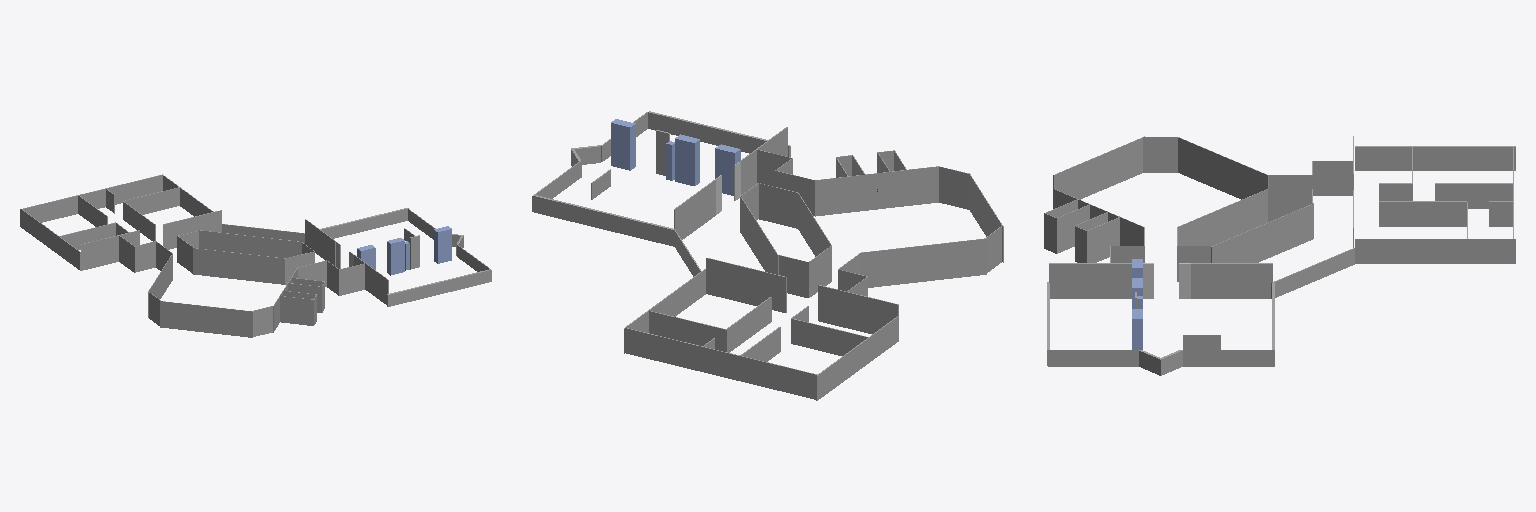
--- What the picture shows (computed from the rendered views, not written in the file) ---
Views: 3 orthographic renders of the robot side by side, from view 1: azimuth 30°, elevation 25°; view 2: azimuth 150°, elevation 25°; view 3: azimuth 270°, elevation 25°.
Model ipa-apartment with 64 links and 63 joints (4 prismatic, 59 fixed), rooted at dummy_link, posed all joints at 0.
Links seen in each view (by area): view 1: wall_ext15, wall_ext13, wall_office_04, wall_ext21, wall_06, wall_office_01, wall_office_03, wall_office_00, wall_01, wall_elv8, wall_office_09, wall_00 (+11 smaller); view 2: wall_office_04, wall_ext14, wall_office_00, wall_office_01, wall_01, wall_office_03, wall_06, wall_office_09, wall_office_10, wall_00, wall_office_02, wall_ext6 (+21 smaller); view 3: wall_office_02, wall_office_03, wall_ext21, wall_07, wall_ext14, wall_ext15, wall_00, wall_ext13, wall_office_05, wall_office_07, wall_05, wall_02 (+12 smaller).
Boxes of the visible links, x1,y1,x2,y2 form: wall_ext15: (160,301,252,337); wall_ext13: (193,248,285,284); wall_office_04: (23,175,162,222); wall_ext21: (199,230,301,257); wall_06: (387,269,491,306); wall_office_01: (81,230,139,270); wall_office_03: (20,209,80,270); wall_office_00: (163,210,221,249); wall_01: (320,208,408,238); wall_elv8: (280,296,313,325); wall_office_09: (124,187,179,214); wall_00: (305,219,335,266); wall_office_04: (625,328,817,399); wall_ext14: (861,238,986,287); wall_office_00: (706,258,786,312); wall_office_01: (818,285,898,333); wall_01: (532,195,673,246); wall_office_03: (816,316,898,400); wall_06: (648,111,790,156); wall_office_09: (649,311,725,351); wall_office_10: (791,318,867,355); wall_00: (674,179,715,239); wall_office_02: (624,269,705,353); wall_ext6: (759,183,797,228); wall_office_02: (1355,239,1515,263); wall_office_03: (1355,146,1515,170); wall_ext21: (1211,203,1313,262); wall_07: (1049,263,1131,298); wall_ext14: (1178,137,1268,199); wall_ext15: (1053,136,1144,208); wall_00: (1191,263,1272,298); wall_ext13: (1178,189,1267,245); wall_office_05: (1379,201,1466,226); wall_office_07: (1435,183,1512,208); wall_05: (1048,350,1138,366); wall_02: (1183,350,1271,366).
Size in the robot's own frame: 24.78 by 24.04 by 2.41 metres.
Meshes: 3 distinct files referenced, 0 mesh visuals loaded (none loaded); not drawn: 3 (reference not matched to a file when rendering).

robot.urdf — ipa-apartment:
<?xml version="1.0" ?>
<!-- =================================================================================== -->
<!-- |    This document was autogenerated by xacro from ipa-apartment.urdf.xacro       | -->
<!-- |    EDITING THIS FILE BY HAND IS NOT RECOMMENDED                                 | -->
<!-- =================================================================================== -->
<robot name="ipa-apartment" xmlns:controller="http://playerstage.sourceforge.net/gazebo/xmlschema/#controller" xmlns:interface="http://playerstage.sourceforge.net/gazebo/xmlschema/#interface" xmlns:sensor="http://playerstage.sourceforge.net/gazebo/xmlschema/#sensor" xmlns:xacro="http://ros.org/wiki/xacro">
  <material name="Blue">
    <color rgba="0.0 0.0 0.8 1.0"/>
  </material>
  <material name="Green">
    <color rgba="0.0 0.8 0.0 1.0"/>
  </material>
  <material name="Grey">
    <color rgba="0.7 0.7 0.7 1.0"/>
  </material>
  <material name="Grey2">
    <color rgba="0.81 0.81 0.81 1.0"/>
  </material>
  <material name="Red">
    <color rgba="0.8 0.0 0.0 1.0"/>
  </material>
  <material name="White">
    <color rgba="1.0 1.0 1.0 1.0"/>
  </material>
  <material name="Black">
    <color rgba="0.0 0.0 0.0 1.0"/>
  </material>
  <material name="Transparent">
    <color rgba="0.81 0.81 0.81 0.0"/>
  </material>
  <material name="LightBlue">
    <color rgba="0.624 0.698 0.858 1"/>
  </material>
  <material name="Caster">
    <texture filename="package://pr2_ogre/Media/materials/textures/pr2_caster_texture.png"/>
  </material>
  <material name="Wheel_l">
    <texture filename="package://pr2_ogre/Media/materials/textures/pr2_wheel_left.png"/>
  </material>
  <material name="Wheel_r">
    <texture filename="package://pr2_ogre/Media/materials/textures/pr2_wheel_right.png"/>
  </material>
  <material name="RollLinks">
    <texture filename="package://pr2_ogre/Media/materials/textures/pr2_wheel_left.png"/>
  </material>
  <!-- apartment -->
  <!-- office-->
  <!-- landing-->
  <link name="wall_ext15">
    <inertial>
      <origin xyz="0 0 0"/>
      <mass value="5.0"/>
      <inertia ixx="0.0" ixy="0.0" ixz="0.0" iyy="0.0" iyz="0.0" izz="0.0"/>
    </inertial>
    <visual>
      <origin xyz="0 0 0"/>
      <geometry>
        <box size="0.04 6.6 2"/>
      </geometry>
      <material name="Grey"/>
    </visual>
    <collision>
      <origin xyz="0 0 0"/>
      <geometry>
        <box size="0.04 6.6 2"/>
      </geometry>
    </collision>
  </link>
  <gazebo reference="wall_ext15">
    <material>IPA/WallApartment</material>
  </gazebo>
  <joint name="joint_wall_ext15" type="fixed">
    <origin rpy="0 0 0.7854" xyz="-3.15 -3.15 1.0"/>
    <parent link="origin_landing"/>
    <child link="wall_ext15"/>
  </joint>
  <link name="wall_ext16">
    <inertial>
      <origin xyz="0 0 0"/>
      <mass value="5.0"/>
      <inertia ixx="0.0" ixy="0.0" ixz="0.0" iyy="0.0" iyz="0.0" izz="0.0"/>
    </inertial>
    <visual>
      <origin xyz="0 0 0"/>
      <geometry>
        <box size="0.04 1.8 2"/>
      </geometry>
      <material name="Grey"/>
    </visual>
    <collision>
      <origin xyz="0 0 0"/>
      <geometry>
        <box size="0.04 1.8 2"/>
      </geometry>
    </collision>
  </link>
  <gazebo reference="wall_ext16">
    <material>IPA/WallApartment</material>
  </gazebo>
  <joint name="joint_wall_ext16" type="fixed">
    <origin rpy="0 0 0" xyz="-5.4 0 1.0"/>
    <parent link="origin_landing"/>
    <child link="wall_ext16"/>
  </joint>
  <link name="wall_ext17">
    <inertial>
      <origin xyz="0 0 0"/>
      <mass value="5.0"/>
      <inertia ixx="0.0" ixy="0.0" ixz="0.0" iyy="0.0" iyz="0.0" izz="0.0"/>
    </inertial>
    <visual>
      <origin xyz="0 0 0"/>
      <geometry>
        <box size="1.8 0.04 2"/>
      </geometry>
      <material name="Grey"/>
    </visual>
    <collision>
      <origin xyz="0 0 0"/>
      <geometry>
        <box size="1.8 0.04 2"/>
      </geometry>
    </collision>
  </link>
  <gazebo reference="wall_ext17">
    <material>IPA/WallApartment</material>
  </gazebo>
  <joint name="joint_wall_ext17" type="fixed">
    <origin rpy="0 0 0" xyz="0 -5.4 1.0"/>
    <parent link="origin_landing"/>
    <child link="wall_ext17"/>
  </joint>
  <link name="wall_ext21">
    <inertial>
      <origin xyz="0 0 0"/>
      <mass value="5.0"/>
      <inertia ixx="0.0" ixy="0.0" ixz="0.0" iyy="0.0" iyz="0.0" izz="0.0"/>
    </inertial>
    <visual>
      <origin xyz="0 0 0"/>
      <geometry>
        <box size="0.04 7.4 2"/>
      </geometry>
      <material name="Grey"/>
    </visual>
    <collision>
      <origin xyz="0 0 0"/>
      <geometry>
        <box size="0.04 7.4 2"/>
      </geometry>
    </collision>
  </link>
  <gazebo reference="wall_ext21">
    <material>IPA/WallApartment</material>
  </gazebo>
  <joint name="joint_wall_ext21" type="fixed">
    <origin rpy="0 0 0.7854" xyz="5.2 5.2 1.0"/>
    <parent link="origin_landing"/>
    <child link="wall_ext21"/>
  </joint>
  <link name="wall_ext22">
    <inertial>
      <origin xyz="0 0 0"/>
      <mass value="5.0"/>
      <inertia ixx="0.0" ixy="0.0" ixz="0.0" iyy="0.0" iyz="0.0" izz="0.0"/>
    </inertial>
    <visual>
      <origin xyz="0 0 0"/>
      <geometry>
        <box size="0.06 6 0.92"/>
      </geometry>
      <material name="Grey"/>
    </visual>
    <collision>
      <origin xyz="0 0 0"/>
      <geometry>
        <box size="0.06 6 0.92"/>
      </geometry>
    </collision>
  </link>
  <gazebo reference="wall_ext22">
    <material>IPA/WallApartment</material>
  </gazebo>
  <joint name="joint_wall_ext22" type="fixed">
    <origin rpy="0 0 0.7854" xyz="7.77 7.77 0.46"/>
    <parent link="origin_landing"/>
    <child link="wall_ext22"/>
  </joint>
  <!-- elevator-->
  <!-- cabinets-->
  <!-- kitchen-->
  <!-- wall_ipa-->
  <!--Parameters-->
  <link name="dummy_link">
    <inertial>
      <origin xyz="0 0 0"/>
      <mass value="5.0"/>
      <inertia ixx="0.0" ixy="0.0" ixz="0.0" iyy="0.0" iyz="0.0" izz="0.0"/>
    </inertial>
    <visual>
      <origin xyz="0 0 0"/>
      <geometry>
        <box size="0.00 0.00 0.00"/>
      </geometry>
    </visual>
    <collision>
      <origin xyz="0 0 0"/>
      <geometry>
        <box size="0.00 0.00 0.00"/>
      </geometry>
    </collision>
  </link>
  <link name="wall_00">
    <inertial>
      <origin xyz="0 0 0"/>
      <mass value="5.0"/>
      <inertia ixx="0.0" ixy="0.0" ixz="0.0" iyy="0.0" iyz="0.0" izz="0.0"/>
    </inertial>
    <visual>
      <origin xyz="0 0 0"/>
      <geometry>
        <box size="0.06 4.16 2"/>
      </geometry>
      <material name="Grey"/>
    </visual>
    <collision>
      <origin xyz="0 0 0"/>
      <geometry>
        <box size="0.06 4.16 2"/>
      </geometry>
    </collision>
  </link>
  <gazebo reference="wall_00">
    <material>IPA/WallApartment</material>
  </gazebo>
  <joint name="joint_wall_00" type="fixed">
    <origin rpy="0 0 0" xyz="-2.091 -0.45 1.0"/>
    <parent link="dummy_link"/>
    <child link="wall_00"/>
  </joint>
  <link name="wall_01">
    <inertial>
      <origin xyz="0 0 0"/>
      <mass value="5.0"/>
      <inertia ixx="0.0" ixy="0.0" ixz="0.0" iyy="0.0" iyz="0.0" izz="0.0"/>
    </inertial>
    <visual>
      <origin xyz="0 0 0"/>
      <geometry>
        <box size=" 8.2 0.15 0.92"/>
      </geometry>
      <material name="Grey"/>
    </visual>
    <collision>
      <origin xyz="0 0 0"/>
      <geometry>
        <box size="8.2 0.15 0.92"/>
      </geometry>
    </collision>
  </link>
  <gazebo reference="wall_01">
    <material>IPA/WallApartment</material>
  </gazebo>
  <joint name="joint_wall_01" type="fixed">
    <origin rpy="0 0 0" xyz="1.969 1.68 0.46"/>
    <parent link="dummy_link"/>
    <child link="wall_01"/>
  </joint>
  <link name="wall_02">
    <inertial>
      <origin xyz="0 0 0"/>
      <mass value="5.0"/>
      <inertia ixx="0.0" ixy="0.0" ixz="0.0" iyy="0.0" iyz="0.0" izz="0.0"/>
    </inertial>
    <visual>
      <origin xyz="0 0 0"/>
      <geometry>
        <box size="0.06 4.7 0.92"/>
      </geometry>
      <material name="Grey"/>
    </visual>
    <collision>
      <origin xyz="0 0 0"/>
      <geometry>
        <box size="0.06 4.7 0.92"/>
      </geometry>
    </collision>
  </link>
  <gazebo reference="wall_02">
    <material>IPA/WallApartment</material>
  </gazebo>
  <joint name="joint_wall_02" type="fixed">
    <origin rpy="0 0 0" xyz="6.029 -0.67 0.46"/>
    <parent link="dummy_link"/>
    <child link="wall_02"/>
  </joint>
  <link name="wall_03">
    <inertial>
      <origin xyz="0 0 0"/>
      <mass value="5.0"/>
      <inertia ixx="0.0" ixy="0.0" ixz="0.0" iyy="0.0" iyz="0.0" izz="0.0"/>
    </inertial>
    <visual>
      <origin xyz="0 0 0"/>
      <geometry>
        <box size=" 0.15 1.6 0.92"/>
      </geometry>
      <material name="Grey"/>
    </visual>
    <collision>
      <origin xyz="0 0 0"/>
      <geometry>
        <box size="0.15 1.5 0.92"/>
      </geometry>
    </collision>
  </link>
  <gazebo reference="wall_03">
    <material>IPA/WallApartment</material>
  </gazebo>
  <joint name="joint_wall_03" type="fixed">
    <origin rpy="0 0 0.785398" xyz="6.605 -3.57 0.46"/>
    <parent link="dummy_link"/>
    <child link="wall_03"/>
  </joint>
  <link name="wall_04">
    <inertial>
      <origin xyz="0 0 0"/>
      <mass value="5.0"/>
      <inertia ixx="0.0" ixy="0.0" ixz="0.0" iyy="0.0" iyz="0.0" izz="0.0"/>
    </inertial>
    <visual>
      <origin xyz="0 0 0"/>
      <geometry>
        <box size="0.15 1.55 0.92"/>
      </geometry>
      <material name="Grey"/>
    </visual>
    <collision>
      <origin xyz="0 0 0"/>
      <geometry>
        <box size="0.15 1.5 0.92"/>
      </geometry>
    </collision>
  </link>
  <gazebo reference="wall_04">
    <material>IPA/WallApartment</material>
  </gazebo>
  <joint name="joint_wall_04" type="fixed">
    <origin rpy="0 0 -0.785398" xyz="6.605 -4.57 0.46"/>
    <parent link="dummy_link"/>
    <child link="wall_04"/>
  </joint>
  <link name="wall_05">
    <inertial>
      <origin xyz="0 0 0"/>
      <mass value="5.0"/>
      <inertia ixx="0.0" ixy="0.0" ixz="0.0" iyy="0.0" iyz="0.0" izz="0.0"/>
    </inertial>
    <visual>
      <origin xyz="0 0 0"/>
      <geometry>
        <box size="0.06 4.7 0.92"/>
      </geometry>
      <material name="Grey"/>
    </visual>
    <collision>
      <origin xyz="0 0 0"/>
      <geometry>
        <box size="0.06 4.7 0.92"/>
      </geometry>
    </collision>
  </link>
  <gazebo reference="wall_05">
    <material>IPA/WallApartment</material>
  </gazebo>
  <joint name="joint_wall_05" type="fixed">
    <origin rpy="0 0 0" xyz="6.029 -7.47 0.46"/>
    <parent link="dummy_link"/>
    <child link="wall_05"/>
  </joint>
  <link name="wall_06">
    <inertial>
      <origin xyz="0 0 0"/>
      <mass value="5.0"/>
      <inertia ixx="0.0" ixy="0.0" ixz="0.0" iyy="0.0" iyz="0.0" izz="0.0"/>
    </inertial>
    <visual>
      <origin xyz="0 0 0"/>
      <geometry>
        <box size=" 8.2 0.15 0.92"/>
      </geometry>
      <material name="Grey"/>
    </visual>
    <collision>
      <origin xyz="0 0 0"/>
      <geometry>
        <box size="8.2 0.17 0.92"/>
      </geometry>
    </collision>
  </link>
  <gazebo reference="wall_06">
    <material>IPA/WallApartment</material>
  </gazebo>
  <joint name="joint_wall_06" type="fixed">
    <origin rpy="0 0 0" xyz="1.919 -9.82 0.46"/>
    <parent link="dummy_link"/>
    <child link="wall_06"/>
  </joint>
  <link name="wall_07">
    <inertial>
      <origin xyz="0 0 0"/>
      <mass value="5.0"/>
      <inertia ixx="0.0" ixy="0.0" ixz="0.0" iyy="0.0" iyz="0.0" izz="0.0"/>
    </inertial>
    <visual>
      <origin xyz="0 0 0"/>
      <geometry>
        <box size="0.06 4.7 2"/>
      </geometry>
      <material name="Grey"/>
    </visual>
    <collision>
      <origin xyz="0 0 0"/>
      <geometry>
        <box size="0.06 4.7 2"/>
      </geometry>
    </collision>
  </link>
  <gazebo reference="wall_07">
    <material>IPA/WallApartment</material>
  </gazebo>
  <joint name="joint_wall_07" type="fixed">
    <origin rpy="0 0 0" xyz="-2.091 -7.42 1.0"/>
    <parent link="dummy_link"/>
    <child link="wall_07"/>
  </joint>
  <link name="wall_08">
    <inertial>
      <origin xyz="0 0 0"/>
      <mass value="5.0"/>
      <inertia ixx="0.0" ixy="0.0" ixz="0.0" iyy="0.0" iyz="0.0" izz="0.0"/>
    </inertial>
    <visual>
      <origin xyz="0 0 0"/>
      <geometry>
        <box size="0.06 1.9 0.92"/>
      </geometry>
      <material name="Grey"/>
    </visual>
    <collision>
      <origin xyz="0 0 0"/>
      <geometry>
        <box size="0.06 1.9 0.92"/>
      </geometry>
    </collision>
  </link>
  <gazebo reference="wall_08">
    <material>IPA/WallApartment</material>
  </gazebo>
  <joint name="joint_wall_08" type="fixed">
    <origin rpy="0 0 0" xyz="4.229 -1.97 0.46"/>
    <parent link="dummy_link"/>
    <child link="wall_08"/>
  </joint>
  <link name="door_00">
    <inertial>
      <origin xyz="0 0 0"/>
      <mass value="5.0"/>
      <inertia ixx="0.0" ixy="0.0" ixz="0.0" iyy="0.0" iyz="0.0" izz="0.0"/>
    </inertial>
    <visual>
      <origin xyz="0 0 0"/>
      <geometry>
        <box size="0.04 0.62 2"/>
      </geometry>
      <material name="Transparent"/>
    </visual>
    <collision>
      <origin xyz="0 0 0"/>
      <geometry>
        <box size="0.04 0.62 2"/>
      </geometry>
    </collision>
  </link>
  <gazebo reference="door_00">
    <material>IPA/Wall2</material>
  </gazebo>
  <joint name="joint_door_00" type="fixed">
    <origin rpy="0 0 0" xyz="-2.091 -2.85 1.0"/>
    <parent link="dummy_link"/>
    <child link="door_00"/>
  </joint>
  <link name="door_01">
    <inertial>
      <origin xyz="0 0 0"/>
      <mass value="5.0"/>
      <inertia ixx="0.0" ixy="0.0" ixz="0.0" iyy="0.0" iyz="0.0" izz="0.0"/>
    </inertial>
    <visual>
      <origin xyz="0 0 0"/>
      <geometry>
        <box size="0.04 0.62 2"/>
      </geometry>
      <material name="Transparent"/>
    </visual>
    <collision>
      <origin xyz="0 0 0"/>
      <geometry>
        <box size="0.04 0.62 2"/>
      </geometry>
    </collision>
  </link>
  <gazebo reference="door_01">
    <material>IPA/Wall2</material>
  </gazebo>
  <joint name="joint_door_01" type="fixed">
    <origin rpy="0 0 0" xyz="-2.091 -4.75 1.0"/>
    <parent link="dummy_link"/>
    <child link="door_01"/>
  </joint>
  <link name="origin_landing">
    <inertial>
      <origin xyz="0 0 0"/>
      <mass value="0.0"/>
      <inertia ixx="0.0" ixy="0.0" ixz="0.0" iyy="0.0" iyz="0.0" izz="0.0"/>
    </inertial>
    <visual>
      <origin xyz="0 0 0"/>
      <geometry>
        <box size="0 0 0"/>
      </geometry>
    </visual>
    <collision>
      <origin xyz="0 0 0"/>
      <geometry>
        <box size="0 0 0"/>
      </geometry>
    </collision>
  </link>
  <joint name="joint_origin_landing" type="fixed">
    <origin rpy="0 0 0" xyz="-11.931 -4.07 0"/>
    <parent link="dummy_link"/>
    <child link="origin_landing"/>
  </joint>
  <link name="wall_ext2">
    <inertial>
      <origin xyz="0 0 0"/>
      <mass value="5.0"/>
      <inertia ixx="0.0" ixy="0.0" ixz="0.0" iyy="0.0" iyz="0.0" izz="0.0"/>
    </inertial>
    <visual>
      <origin xyz="0 0 0"/>
      <geometry>
        <box size="2.1 0.04 2"/>
      </geometry>
      <material name="Grey"/>
    </visual>
    <collision>
      <origin xyz="0 0 0"/>
      <geometry>
        <box size="2.1 0.04 2"/>
      </geometry>
    </collision>
  </link>
  <gazebo reference="wall_ext2">
    <material>IPA/WallApartment</material>
  </gazebo>
  <joint name="joint_wall_ext2" type="fixed">
    <origin rpy="0 0 0" xyz="8.8 -2.565 1.0"/>
    <parent link="origin_landing"/>
    <child link="wall_ext2"/>
  </joint>
  <link name="wall_ext3">
    <inertial>
      <origin xyz="0 0 0"/>
      <mass value="5.0"/>
      <inertia ixx="0.0" ixy="0.0" ixz="0.0" iyy="0.0" iyz="0.0" izz="0.0"/>
    </inertial>
    <visual>
      <origin xyz="0 0 0"/>
      <geometry>
        <box size="0.04 1.73 2"/>
      </geometry>
      <material name="Grey"/>
    </visual>
    <collision>
      <origin xyz="0 0 0"/>
      <geometry>
        <box size="0.04 1.73 2"/>
      </geometry>
    </collision>
  </link>
  <gazebo reference="wall_ext3">
    <material>IPA/WallApartment</material>
  </gazebo>
  <joint name="joint_wall_ext3" type="fixed">
    <origin rpy="0 0 0" xyz="7.75 -1.7 1.0"/>
    <parent link="origin_landing"/>
    <child link="wall_ext3"/>
  </joint>
  <link name="wall_ext4">
    <inertial>
      <origin xyz="0 0 0"/>
      <mass value="5.0"/>
      <inertia ixx="0.0" ixy="0.0" ixz="0.0" iyy="0.0" iyz="0.0" izz="0.0"/>
    </inertial>
    <visual>
      <origin xyz="0 0 0"/>
      <geometry>
        <box size="0.04 1.73 2"/>
      </geometry>
      <material name="Grey"/>
    </visual>
    <collision>
      <origin xyz="0 0 0"/>
      <geometry>
        <box size="0.04 1.73 2"/>
      </geometry>
    </collision>
  </link>
  <gazebo reference="wall_ext4">
    <material>IPA/WallApartment</material>
  </gazebo>
  <joint name="joint_wall_ext4" type="fixed">
    <origin rpy="0 0 0" xyz="7.75 1.7 1.0"/>
    <parent link="origin_landing"/>
    <child link="wall_ext4"/>
  </joint>
  <link name="wall_ext5">
    <inertial>
      <origin xyz="0 0 0"/>
      <mass value="5.0"/>
      <inertia ixx="0.0" ixy="0.0" ixz="0.0" iyy="0.0" iyz="0.0" izz="0.0"/>
    </inertial>
    <visual>
      <origin xyz="0 0 0"/>
      <geometry>
        <box size="2.34 0.04 2"/>
      </geometry>
      <material name="Grey"/>
    </visual>
    <collision>
      <origin xyz="0 0 0"/>
      <geometry>
        <box size="6.73 0.04 2"/>
      </geometry>
    </collision>
  </link>
  <gazebo reference="wall_ext5">
    <material>IPA/WallApartment</material>
  </gazebo>
  <joint name="joint_wall_ext5" type="fixed">
    <origin rpy="0 0 0" xyz="6.6 -0.85 1.0"/>
    <parent link="origin_landing"/>
    <child link="wall_ext5"/>
  </joint>
  <link name="wall_ext6">
    <inertial>
      <origin xyz="0 0 0"/>
      <mass value="5.0"/>
      <inertia ixx="0.0" ixy="0.0" ixz="0.0" iyy="0.0" iyz="0.0" izz="0.0"/>
    </inertial>
    <visual>
      <origin xyz="0 0 0"/>
      <geometry>
        <box size="2.34 0.04 2"/>
      </geometry>
      <material name="Grey"/>
    </visual>
    <collision>
      <origin xyz="0 0 0"/>
      <geometry>
        <box size="2.34 0.04 2"/>
      </geometry>
    </collision>
  </link>
  <gazebo reference="wall_ext6">
    <material>IPA/WallApartment</material>
  </gazebo>
  <joint name="joint_wall_ext6" type="fixed">
    <origin rpy="0 0 0" xyz="6.6 0.85 1.0"/>
    <parent link="origin_landing"/>
    <child link="wall_ext6"/>
  </joint>
  <link name="wall_ext8">
    <inertial>
      <origin xyz="0 0 0"/>
      <mass value="5.0"/>
      <inertia ixx="0.0" ixy="0.0" ixz="0.0" iyy="0.0" iyz="0.0" izz="0.0"/>
    </inertial>
    <visual>
      <origin xyz="0 0 0"/>
      <geometry>
        <box size="0.04 2.1 2"/>
      </geometry>
      <material name="Grey"/>
    </visual>
    <collision>
      <origin xyz="0 0 0"/>
      <geometry>
        <box size="0.04 2.1 2"/>
      </geometry>
    </collision>
  </link>
  <gazebo reference="wall_ext8">
    <material>IPA/WallApartment</material>
  </gazebo>
  <joint name="joint_wall_ext8" type="fixed">
    <origin rpy="0 0 0" xyz="-2.565 8.8 1.0"/>
    <parent link="origin_landing"/>
    <child link="wall_ext8"/>
  </joint>
  <link name="wall_ext9">
    <inertial>
      <origin xyz="0 0 0"/>
      <mass value="5.0"/>
      <inertia ixx="0.0" ixy="0.0" ixz="0.0" iyy="0.0" iyz="0.0" izz="0.0"/>
    </inertial>
    <visual>
      <origin xyz="0 0 0"/>
      <geometry>
        <box size="1.73 0.04 2"/>
      </geometry>
      <material name="Grey"/>
    </visual>
    <collision>
      <origin xyz="0 0 0"/>
      <geometry>
        <box size="1.73 0.04 2"/>
      </geometry>
    </collision>
  </link>
  <gazebo reference="wall_ext9">
    <material>IPA/WallApartment</material>
  </gazebo>
  <joint name="joint_wall_ext9" type="fixed">
    <origin rpy="0 0 0" xyz="-1.7 7.75 1.0"/>
    <parent link="origin_landing"/>
    <child link="wall_ext9"/>
  </joint>
  <link name="wall_ext10">
    <inertial>
      <origin xyz="0 0 0"/>
      <mass value="5.0"/>
      <inertia ixx="0.0" ixy="0.0" ixz="0.0" iyy="0.0" iyz="0.0" izz="0.0"/>
    </inertial>
    <visual>
      <origin xyz="0 0 0"/>
      <geometry>
        <box size="1.73 0.04 2"/>
      </geometry>
      <material name="Grey"/>
    </visual>
    <collision>
      <origin xyz="0 0 0"/>
      <geometry>
        <box size="1.73 0.04 2"/>
      </geometry>
    </collision>
  </link>
  <gazebo reference="wall_ext10">
    <material>IPA/WallApartment</material>
  </gazebo>
  <joint name="joint_wall_ext10" type="fixed">
    <origin rpy="0 0 0" xyz="1.7 7.75 1.0"/>
    <parent link="origin_landing"/>
    <child link="wall_ext10"/>
  </joint>
  <link name="wall_ext11">
    <inertial>
      <origin xyz="0 0 0"/>
      <mass value="5.0"/>
      <inertia ixx="0.0" ixy="0.0" ixz="0.0" iyy="0.0" iyz="0.0" izz="0.0"/>
    </inertial>
    <visual>
      <origin xyz="0 0 0"/>
      <geometry>
        <box size="0.04 2.34 2"/>
      </geometry>
      <material name="Grey"/>
    </visual>
    <collision>
      <origin xyz="0 0 0"/>
      <geometry>
        <box size="0.04 2.34 2"/>
      </geometry>
    </collision>
  </link>
  <gazebo reference="wall_ext11">
    <material>IPA/WallApartment</material>
  </gazebo>
  <joint name="joint_wall_ext11" type="fixed">
    <origin rpy="0 0 0" xyz="-0.85 6.6 1.0"/>
    <parent link="origin_landing"/>
    <child link="wall_ext11"/>
  </joint>
  <link name="wall_ext12">
    <inertial>
      <origin xyz="0 0 0"/>
      <mass value="5.0"/>
      <inertia ixx="0.0" ixy="0.0" ixz="0.0" iyy="0.0" iyz="0.0" izz="0.0"/>
    </inertial>
    <visual>
      <origin xyz="0 0 0"/>
      <geometry>
        <box size="0.04 2.34 2"/>
      </geometry>
      <material name="Grey"/>
    </visual>
    <collision>
      <origin xyz="0 0 0"/>
      <geometry>
        <box size="0.04 2.34 2"/>
      </geometry>
    </collision>
  </link>
  <gazebo reference="wall_ext12">
    <material>IPA/WallApartment</material>
  </gazebo>
  <joint name="joint_wall_ext12" type="fixed">
    <origin rpy="0 0 0" xyz="0.85 6.6 1.0"/>
    <parent link="origin_landing"/>
    <child link="wall_ext12"/>
  </joint>
  <link name="wall_ext13">
    <inertial>
      <origin xyz="0 0 0"/>
      <mass value="5.0"/>
      <inertia ixx="0.0" ixy="0.0" ixz="0.0" iyy="0.0" iyz="0.0" izz="0.0"/>
    </inertial>
    <visual>
      <origin xyz="0 0 0"/>
      <geometry>
        <box size="0.04 6.6 2"/>
      </geometry>
      <material name="Grey"/>
    </visual>
    <collision>
      <origin xyz="0 0 0"/>
      <geometry>
        <box size="0.04 6.6 2"/>
      </geometry>
    </collision>
  </link>
  <gazebo reference="wall_ext13">
    <material>IPA/WallApartment</material>
  </gazebo>
  <joint name="joint_wall_ext13" type="fixed">
    <origin rpy="0 0 0.7854" xyz="3.15 3.15 1.0"/>
    <parent link="origin_landing"/>
    <child link="wall_ext13"/>
  </joint>
  <link name="wall_ext14">
    <inertial>
      <origin xyz="0 0 0"/>
      <mass value="5.0"/>
      <inertia ixx="0.0" ixy="0.0" ixz="0.0" iyy="0.0" iyz="0.0" izz="0.0"/>
    </inertial>
    <visual>
      <origin xyz="0 0 0"/>
      <geometry>
        <box size="0.04 6.6 2"/>
      </geometry>
      <material name="Grey"/>
    </visual>
    <collision>
      <origin xyz="0 0 0"/>
      <geometry>
        <box size="0.04 6.6 2"/>
      </geometry>
    </collision>
  </link>
  <gazebo reference="wall_ext14">
    <material>IPA/WallApartment</material>
  </gazebo>
  <joint name="joint_wall_ext14" type="fixed">
    <origin rpy="0 0 -0.7854" xyz="-3.15 3.15 1.0"/>
    <parent link="origin_landing"/>
    <child link="wall_ext14"/>
  </joint>
  <link name="origin_office">
    <inertial>
      <origin xyz="0 0 0"/>
      <mass value="0.0"/>
      <inertia ixx="0.0" ixy="0.0" ixz="0.0" iyy="0.0" iyz="0.0" izz="0.0"/>
    </inertial>
    <visual>
      <origin xyz="0 0 0"/>
      <geometry>
        <box size="0 0 0"/>
      </geometry>
    </visual>
    <collision>
      <origin xyz="0 0 0"/>
      <geometry>
        <box size="0 0 0"/>
      </geometry>
    </collision>
  </link>
  <joint name="joint_origin_office" type="fixed">
    <origin rpy="0 0 0" xyz="0 14 0"/>
    <parent link="origin_landing"/>
    <child link="origin_office"/>
  </joint>
  <link name="wall_office_00">
    <inertial>
      <origin xyz="0 0 0"/>
      <mass value="5.0"/>
      <inertia ixx="0.0" ixy="0.0" ixz="0.0" iyy="0.0" iyz="0.0" izz="0.0"/>
    </inertial>
    <visual>
      <origin xyz="0 0 0"/>
      <geometry>
        <box size="4.65 0.06 2"/>
      </geometry>
      <material name="Grey"/>
    </visual>
    <collision>
      <origin xyz="0 0 0"/>
      <geometry>
        <box size="4.65 0.06 2"/>
      </geometry>
    </collision>
  </link>
  <gazebo reference="wall_office_00">
    <material>IPA/WallApartment</material>
  </gazebo>
  <joint name="joint_wall_office_00" type="fixed">
    <origin rpy="0 0 0" xyz="3.25 -4.15 1.0"/>
    <parent link="origin_office"/>
    <child link="wall_office_00"/>
  </joint>
  <link name="wall_office_01">
    <inertial>
      <origin xyz="0 0 0"/>
      <mass value="5.0"/>
      <inertia ixx="0.0" ixy="0.0" ixz="0.0" iyy="0.0" iyz="0.0" izz="0.0"/>
    </inertial>
    <visual>
      <origin xyz="0 0 0"/>
      <geometry>
        <box size="4.65 0.06 2"/>
      </geometry>
      <material name="Grey"/>
    </visual>
    <collision>
      <origin xyz="0 0 0"/>
      <geometry>
        <box size="4.65 0.06 2"/>
      </geometry>
    </collision>
  </link>
  <gazebo reference="wall_office_01">
    <material>IPA/WallApartment</material>
  </gazebo>
  <joint name="joint_wall_office_01" type="fixed">
    <origin rpy="0 0 0" xyz="-3.25 -4.15 1.0"/>
    <parent link="origin_office"/>
    <child link="wall_office_01"/>
  </joint>
  <link name="wall_office_02">
    <inertial>
      <origin xyz="0 0 0"/>
      <mass value="5.0"/>
      <inertia ixx="0.0" ixy="0.0" ixz="0.0" iyy="0.0" iyz="0.0" izz="0.0"/>
    </inertial>
    <visual>
      <origin xyz="0 0 0"/>
      <geometry>
        <box size="0.06 8.2 1.4"/>
      </geometry>
      <material name="Grey"/>
    </visual>
    <collision>
      <origin xyz="0 0 0"/>
      <geometry>
        <box size="0.06 8.2 1.4"/>
      </geometry>
    </collision>
  </link>
  <gazebo reference="wall_office_02">
    <material>IPA/WallApartment</material>
  </gazebo>
  <joint name="joint_wall_office_02" type="fixed">
    <origin rpy="0 0 0" xyz="5.6 0 0.7"/>
    <parent link="origin_office"/>
    <child link="wall_office_02"/>
  </joint>
  <link name="wall_office_03">
    <inertial>
      <origin xyz="0 0 0"/>
      <mass value="5.0"/>
      <inertia ixx="0.0" ixy="0.0" ixz="0.0" iyy="0.0" iyz="0.0" izz="0.0"/>
    </inertial>
    <visual>
      <origin xyz="0 0 0"/>
      <geometry>
        <box size="0.06 8.2 1.4"/>
      </geometry>
      <material name="Grey"/>
    </visual>
    <collision>
      <origin xyz="0 0 0"/>
      <geometry>
        <box size="0.06 8.2 1.4"/>
      </geometry>
    </collision>
  </link>
  <gazebo reference="wall_office_03">
    <material>IPA/WallApartment</material>
  </gazebo>
  <joint name="joint_wall_office_03" type="fixed">
    <origin rpy="0 0 0" xyz="-5.6 0 0.7"/>
    <parent link="origin_office"/>
    <child link="wall_office_03"/>
  </joint>
  <link name="wall_office_04">
    <inertial>
      <origin xyz="0 0 0"/>
      <mass value="5.0"/>
      <inertia ixx="0.0" ixy="0.0" ixz="0.0" iyy="0.0" iyz="0.0" izz="0.0"/>
    </inertial>
    <visual>
      <origin xyz="0 0 0"/>
      <geometry>
        <box size="11.2 0.06 1.4"/>
      </geometry>
      <material name="Grey"/>
    </visual>
    <collision>
      <origin xyz="0 0 0"/>
      <geometry>
        <box size="11.2 0.06 1.4"/>
      </geometry>
    </collision>
  </link>
  <gazebo reference="wall_office_04">
    <material>IPA/WallApartment</material>
  </gazebo>
  <joint name="joint_wall_office_04" type="fixed">
    <origin rpy="0 0 0" xyz="0 4 0.7"/>
    <parent link="origin_office"/>
    <child link="wall_office_04"/>
  </joint>
  <link name="wall_office_05">
    <inertial>
      <origin xyz="0 0 0"/>
      <mass value="5.0"/>
      <inertia ixx="0.0" ixy="0.0" ixz="0.0" iyy="0.0" iyz="0.0" izz="0.0"/>
    </inertial>
    <visual>
      <origin xyz="0 0 0"/>
      <geometry>
        <box size="0.06 4.51 1.4"/>
      </geometry>
      <material name="Grey"/>
    </visual>
    <collision>
      <origin xyz="0 0 0"/>
      <geometry>
        <box size="0.06 4.51 1.4"/>
      </geometry>
    </collision>
  </link>
  <gazebo reference="wall_office_05">
    <material>IPA/WallApartment</material>
  </gazebo>
  <joint name="joint_wall_office_05" type="fixed">
    <origin rpy="0 0 0" xyz="1.09 -0.615 0.7"/>
    <parent link="origin_office"/>
    <child link="wall_office_05"/>
  </joint>
  <link name="wall_office_06">
    <inertial>
      <origin xyz="0 0 0"/>
      <mass value="5.0"/>
      <inertia ixx="0.0" ixy="0.0" ixz="0.0" iyy="0.0" iyz="0.0" izz="0.0"/>
    </inertial>
    <visual>
      <origin xyz="0 0 0"/>
      <geometry>
        <box size="0.06 1.23 1.4"/>
      </geometry>
      <material name="Grey"/>
    </visual>
    <collision>
      <origin xyz="0 0 0"/>
      <geometry>
        <box size="0.06 1.23 1.4"/>
      </geometry>
    </collision>
  </link>
  <gazebo reference="wall_office_06">
    <material>IPA/WallApartment</material>
  </gazebo>
  <joint name="joint_wall_office_06" type="fixed">
    <origin rpy="0 0 0" xyz="1.09 3.385 0.7"/>
    <parent link="origin_office"/>
    <child link="wall_office_06"/>
  </joint>
  <link name="wall_office_07">
    <inertial>
      <origin xyz="0 0 0"/>
      <mass value="5.0"/>
      <inertia ixx="0.0" ixy="0.0" ixz="0.0" iyy="0.0" iyz="0.0" izz="0.0"/>
    </inertial>
    <visual>
      <origin xyz="0 0 0"/>
      <geometry>
        <box size="0.06 4.01 1.4"/>
      </geometry>
      <material name="Grey"/>
    </visual>
    <collision>
      <origin xyz="0 0 0"/>
      <geometry>
        <box size="0.06 4.01 1.4"/>
      </geometry>
    </collision>
  </link>
  <gazebo reference="wall_office_07">
    <material>IPA/WallApartment</material>
  </gazebo>
  <joint name="joint_wall_office_07" type="fixed">
    <origin rpy="0 0 0" xyz="-1.09 2 0.7"/>
    <parent link="origin_office"/>
    <child link="wall_office_07"/>
  </joint>
  <link name="wall_office_08">
    <inertial>
      <origin xyz="0 0 0"/>
      <mass value="5.0"/>
      <inertia ixx="0.0" ixy="0.0" ixz="0.0" iyy="0.0" iyz="0.0" izz="0.0"/>
    </inertial>
    <visual>
      <origin xyz="0 0 0"/>
      <geometry>
        <box size="0.06 1.73 1.4"/>
      </geometry>
      <material name="Grey"/>
    </visual>
    <collision>
      <origin xyz="0 0 0"/>
      <geometry>
        <box size="0.06 1.73 1.4"/>
      </geometry>
    </collision>
  </link>
  <gazebo reference="wall_office_08">
    <material>IPA/WallApartment</material>
  </gazebo>
  <joint name="joint_wall_office_08" type="fixed">
    <origin rpy="0 0 0" xyz="-1.09 -2 0.7"/>
    <parent link="origin_office"/>
    <child link="wall_office_08"/>
  </joint>
  <link name="wall_office_09">
    <inertial>
      <origin xyz="0 0 0"/>
      <mass value="5.0"/>
      <inertia ixx="0.0" ixy="0.0" ixz="0.0" iyy="0.0" iyz="0.0" izz="0.0"/>
    </inertial>
    <visual>
      <origin xyz="0 0 0"/>
      <geometry>
        <box size="4.5 0.06 1.4"/>
      </geometry>
      <material name="Grey"/>
    </visual>
    <collision>
      <origin xyz="0 0 0"/>
      <geometry>
        <box size="4.5 0.06 1.4"/>
      </geometry>
    </collision>
  </link>
  <gazebo reference="wall_office_09">
    <material>IPA/WallApartment</material>
  </gazebo>
  <joint name="joint_wall_office_09" type="fixed">
    <origin rpy="0 0 0" xyz="3.35 1.64 0.7"/>
    <parent link="origin_office"/>
    <child link="wall_office_09"/>
  </joint>
  <link name="wall_office_10">
    <inertial>
      <origin xyz="0 0 0"/>
      <mass value="5.0"/>
      <inertia ixx="0.0" ixy="0.0" ixz="0.0" iyy="0.0" iyz="0.0" izz="0.0"/>
    </inertial>
    <visual>
      <origin xyz="0 0 0"/>
      <geometry>
        <box size="4.5 0.06 1.4"/>
      </geometry>
      <material name="Grey"/>
    </visual>
    <collision>
      <origin xyz="0 0 0"/>
      <geometry>
        <box size="4.5 0.06 1.4"/>
      </geometry>
    </collision>
  </link>
  <gazebo reference="wall_office_10">
    <material>IPA/WallApartment</material>
  </gazebo>
  <joint name="joint_wall_office_10" type="fixed">
    <origin rpy="0 0 0" xyz="-3.35 -1.14 0.7"/>
    <parent link="origin_office"/>
    <child link="wall_office_10"/>
  </joint>
  <link name="origin_elevator">
    <inertial>
      <origin xyz="0 0 0"/>
      <mass value="0.0"/>
      <inertia ixx="0.0" ixy="0.0" ixz="0.0" iyy="0.0" iyz="0.0" izz="0.0"/>
    </inertial>
    <visual>
      <origin xyz="0 0 0"/>
      <geometry>
        <box size="0 0 0"/>
      </geometry>
    </visual>
    <collision>
      <origin xyz="0 0 0"/>
      <geometry>
        <box size="0 0 0"/>
      </geometry>
    </collision>
  </link>
  <joint name="joint_origin_elevator" type="fixed">
    <origin rpy="0 0 -0.7853981" xyz="3.15 -3.15 1.0"/>
    <parent link="origin_landing"/>
    <child link="origin_elevator"/>
  </joint>
  <link name="elevator_left">
    <inertial>
      <origin xyz="0 0 0"/>
      <mass value="5.0"/>
      <inertia ixx="0.0" ixy="0.0" ixz="0.0" iyy="0.0" iyz="0.0" izz="0.0"/>
    </inertial>
    <visual>
      <origin xyz="0 0 0"/>
      <geometry>
        <box size="0.04 0.87 2"/>
      </geometry>
      <material name="Grey"/>
    </visual>
    <collision>
      <origin xyz="0 0 0"/>
      <geometry>
        <box size="0.04 0.87 2"/>
      </geometry>
    </collision>
  </link>
  <gazebo reference="elevator_left">
    <material>IPA/Wall2</material>
  </gazebo>
  <joint name="elevator_left_joint" type="prismatic">
    <origin rpy="0 0 0" xyz="0 1.085 0"/>
    <parent link="origin_elevator"/>
    <child link="elevator_left"/>
    <axis xyz="0 1 0"/>
    <calibration rising="0.0"/>
    <dynamics damping="0.0" friction="0.0"/>
    <limit effort="100" lower="0" upper="0.87" velocity="1.0"/>
    <!--safety_controller k_velocity="10"/-->
  </joint>
  <transmission name="elevator_left_trans" type="pr2_mechanism_model/SimpleTransmission">
    <actuator name="elevator_left_motor"/>
    <joint name="elevator_left_joint"/>
    <mechanicalReduction>1</mechanicalReduction>
  </transmission>
  <link name="wall_elv5">
    <inertial>
      <origin xyz="0 0 0"/>
      <mass value="5.0"/>
      <inertia ixx="0.0" ixy="0.0" ixz="0.0" iyy="0.0" iyz="0.0" izz="0.0"/>
    </inertial>
    <visual>
      <origin xyz="0 0 0"/>
      <geometry>
        <box size="2.4 0.04 2"/>
      </geometry>
      <material name="Grey"/>
    </visual>
    <collision>
      <origin xyz="0 0 0"/>
      <geometry>
        <box size="2.4 0.04 2"/>
      </geometry>
    </collision>
  </link>
  <gazebo reference="wall_elv5">
    <material>IPA/WallApartment</material>
  </gazebo>
  <joint name="joint_wall_elv5" type="fixed">
    <origin rpy="0 0 0" xyz="1.2 1.52 0"/>
    <parent link="origin_elevator"/>
    <child link="wall_elv5"/>
  </joint>
  <link name="wall_elv6">
    <inertial>
      <origin xyz="0 0 0"/>
      <mass value="5.0"/>
      <inertia ixx="0.0" ixy="0.0" ixz="0.0" iyy="0.0" iyz="0.0" izz="0.0"/>
    </inertial>
    <visual>
      <origin xyz="0 0 0"/>
      <geometry>
        <box size="2.4 0.04 2"/>
      </geometry>
      <material name="Grey"/>
    </visual>
    <collision>
      <origin xyz="0 0 0"/>
      <geometry>
        <box size="2.4 0.04 2"/>
      </geometry>
    </collision>
  </link>
  <gazebo reference="wall_elv6">
    <material>IPA/WallApartment</material>
  </gazebo>
  <joint name="joint_wall_elv6" type="fixed">
    <origin rpy="0 0 0" xyz="1.2 0.65 0"/>
    <parent link="origin_elevator"/>
    <child link="wall_elv6"/>
  </joint>
  <link name="elevator_left2">
    <inertial>
      <origin xyz="0 0 0"/>
      <mass value="5.0"/>
      <inertia ixx="0.0" ixy="0.0" ixz="0.0" iyy="0.0" iyz="0.0" izz="0.0"/>
    </inertial>
    <visual>
      <origin xyz="0 0 0"/>
      <geometry>
        <box size="0.04 0.87 2"/>
      </geometry>
      <material name="Grey"/>
    </visual>
    <collision>
      <origin xyz="0 0 0"/>
      <geometry>
        <box size="0.04 0.87 2"/>
      </geometry>
    </collision>
  </link>
  <gazebo reference="elevator_left2">
    <material>IPA/WallApartment</material>
  </gazebo>
  <joint name="joint_elevator_left2" type="fixed">
    <origin rpy="0 0 0" xyz="2.4 1.085 0"/>
    <parent link="origin_elevator"/>
    <child link="elevator_left2"/>
  </joint>
  <link name="elevator_right">
    <inertial>
      <origin xyz="0 0 0"/>
      <mass value="5.0"/>
      <inertia ixx="0.0" ixy="0.0" ixz="0.0" iyy="0.0" iyz="0.0" izz="0.0"/>
    </inertial>
    <visual>
      <origin xyz="0 0 0"/>
      <geometry>
        <box size="0.04 0.87 2"/>
      </geometry>
    </visual>
    <collision>
      <origin xyz="0 0 0"/>
      <geometry>
        <box size="0.04 0.87 2"/>
      </geometry>
    </collision>
  </link>
  <gazebo reference="elevator_right">
    <material>IPA/Wall2</material>
  </gazebo>
  <joint name="elevator_right_joint" type="prismatic">
    <axis xyz="0 -1 0"/>
    <origin rpy="0 0 0" xyz="0 -1.085 0"/>
    <parent link="origin_elevator"/>
    <child link="elevator_right"/>
    <calibration rising="0.0"/>
    <dynamics damping="0.0" friction="0.0"/>
    <limit effort="100" lower="0" upper="0.87" velocity="1.0"/>
    <safety_controller k_velocity="10"/>
  </joint>
  <transmission name="elevator_right_trans" type="pr2_mechanism_model/SimpleTransmission">
    <actuator name="elevator_right_motor"/>
    <joint name="elevator_right_joint"/>
    <mechanicalReduction>1</mechanicalReduction>
  </transmission>
  <link name="wall_elv7">
    <inertial>
      <origin xyz="0 0 0"/>
      <mass value="5.0"/>
      <inertia ixx="0.0" ixy="0.0" ixz="0.0" iyy="0.0" iyz="0.0" izz="0.0"/>
    </inertial>
    <visual>
      <origin xyz="0 0 0"/>
      <geometry>
        <box size="2.4 0.04 2"/>
      </geometry>
      <material name="Grey"/>
    </visual>
    <collision>
      <origin xyz="0 0 0"/>
      <geometry>
        <box size="2.4 0.04 2"/>
      </geometry>
    </collision>
  </link>
  <gazebo reference="wall_elv7">
    <material>IPA/WallApartment</material>
  </gazebo>
  <joint name="joint_wall_elv7" type="fixed">
    <origin rpy="0 0 0" xyz="1.2 -0.65 0"/>
    <parent link="origin_elevator"/>
    <child link="wall_elv7"/>
  </joint>
  <link name="wall_elv8">
    <inertial>
      <origin xyz="0 0 0"/>
      <mass value="5.0"/>
      <inertia ixx="0.0" ixy="0.0" ixz="0.0" iyy="0.0" iyz="0.0" izz="0.0"/>
    </inertial>
    <visual>
      <origin xyz="0 0 0"/>
      <geometry>
        <box size="2.4 0.04 2"/>
      </geometry>
      <material name="Grey"/>
    </visual>
    <collision>
      <origin xyz="0 0 0"/>
      <geometry>
        <box size="2.4 0.04 2"/>
      </geometry>
    </collision>
  </link>
  <gazebo reference="wall_elv8">
    <material>IPA/WallApartment</material>
  </gazebo>
  <joint name="joint_wall_elv8" type="fixed">
    <origin rpy="0 0 0" xyz="1.2 -1.52 0"/>
    <parent link="origin_elevator"/>
    <child link="wall_elv8"/>
  </joint>
  <link name="elevator_right2">
    <inertial>
      <origin xyz="0 0 0"/>
      <mass value="5.0"/>
      <inertia ixx="0.0" ixy="0.0" ixz="0.0" iyy="0.0" iyz="0.0" izz="0.0"/>
    </inertial>
    <visual>
      <origin xyz="0 0 0"/>
      <geometry>
        <box size="0.04 0.87 2"/>
      </geometry>
      <material name="Grey"/>
    </visual>
    <collision>
      <origin xyz="0 0 0"/>
      <geometry>
        <box size="0.04 0.87 2"/>
      </geometry>
    </collision>
  </link>
  <gazebo reference="elevator_right2">
    <material>IPA/WallApartment</material>
  </gazebo>
  <joint name="joint_elevator_right2" type="fixed">
    <origin rpy="0 0 0" xyz="2.4 -1.085 0"/>
    <parent link="origin_elevator"/>
    <child link="elevator_right2"/>
  </joint>
  <link name="elevator_button1">
    <inertial>
      <origin xyz="0 0 0"/>
      <mass value="1.0"/>
      <inertia ixx="0.0" ixy="0.0" ixz="0.0" iyy="0.0" iyz="0.0" izz="0.0"/>
    </inertial>
    <visual>
      <origin xyz="0 0 0"/>
      <geometry>
        <box size="0.01 0.05 0.05"/>
      </geometry>
      <material name="Red"/>
    </visual>
    <collision>
      <origin xyz="0 0 0"/>
      <geometry>
        <box size="0.01 0.05 0.05"/>
      </geometry>
    </collision>
  </link>
  <joint name="joint_elevator_button1" type="prismatic">
    <origin rpy="0 0 0" xyz="-0.04 0 0.035"/>
    <parent link="origin_elevator"/>
    <child link="elevator_button1"/>
    <calibration rising="0.0"/>
    <dynamics damping="0.0" friction="0.0"/>
    <limit effort="100" lower="0" upper="0" velocity="1.0"/>
    <safety_controller k_velocity="10"/>
  </joint>
  <gazebo reference="elevator_button1">
    <selfCollide>true</selfCollide>
    <sensor:contact name="elevator_button1_contact_sensor">
      <geom>elevator_button1_geom</geom>
      <updateRate>10</updateRate>
      <controller:gazebo_ros_bumper name="elevator_button1_gazebo_ros_bumper_controller" plugin="libgazebo_ros_bumper.so">
        <alwaysOn>true</alwaysOn>
        <updateRate>10</updateRate>
        <frameName>elevator_button1</frameName>
        <bumperTopicName>elevator_button1_bumper</bumperTopicName>
        <interface:bumper name="elevator_button1_bumper_iface"/>
      </controller:gazebo_ros_bumper>
    </sensor:contact>
    <material>Gazebo/Red</material>
  </gazebo>
  <link name="elevator_button2">
    <inertial>
      <origin xyz="0 0 0"/>
      <mass value="1.0"/>
      <inertia ixx="0.0" ixy="0.0" ixz="0.0" iyy="0.0" iyz="0.0" izz="0.0"/>
    </inertial>
    <visual>
      <origin xyz="0 0 0"/>
      <geometry>
        <box size="0.01 0.05 0.05"/>
      </geometry>
      <material name="Red"/>
    </visual>
    <collision>
      <origin xyz="0 0 0"/>
      <geometry>
        <box size="0.01 0.05 0.05"/>
      </geometry>
    </collision>
  </link>
  <joint name="joint_elevator_button2" type="prismatic">
    <origin rpy="0 0 0" xyz="-0.04 0 0.095"/>
    <parent link="origin_elevator"/>
    <child link="elevator_button2"/>
    <calibration rising="0.0"/>
    <dynamics damping="0.0" friction="0.0"/>
    <limit effort="100" lower="0" upper="0" velocity="1.0"/>
    <safety_controller k_velocity="10"/>
  </joint>
  <gazebo reference="elevator_button2">
    <selfCollide>true</selfCollide>
    <sensor:contact name="elevator_button2_contact_sensor">
      <geom>elevator_button2_geom</geom>
      <updateRate>10</updateRate>
      <controller:gazebo_ros_bumper name="elevator_button2_gazebo_ros_bumper_controller" plugin="libgazebo_ros_bumper.so">
        <alwaysOn>true</alwaysOn>
        <updateRate>10</updateRate>
        <frameName>elevator_button2</frameName>
        <bumperTopicName>elevator_button2_bumper</bumperTopicName>
        <interface:bumper name="elevator_button2_bumper_iface"/>
      </controller:gazebo_ros_bumper>
    </sensor:contact>
    <material>Gazebo/Red</material>
    <turnGravityOff>false</turnGravityOff>
  </gazebo>
  <link name="wall_ext18">
    <inertial>
      <origin xyz="0 0 0"/>
      <mass value="5.0"/>
      <inertia ixx="0.0" ixy="0.0" ixz="0.0" iyy="0.0" iyz="0.0" izz="0.0"/>
    </inertial>
    <visual>
      <origin xyz="0 0 0"/>
      <geometry>
        <box size="0.04 1.74 2"/>
      </geometry>
      <material name="Grey"/>
    </visual>
    <collision>
      <origin xyz="0 0 0"/>
      <geometry>
        <box size="0.04 1.74 2"/>
      </geometry>
    </collision>
  </link>
  <gazebo reference="wall_ext18">
    <material>IPA/WallApartment</material>
  </gazebo>
  <joint name="joint_wall_ext18" type="fixed">
    <origin rpy="0 0 0" xyz="0 2.39 0"/>
    <parent link="origin_elevator"/>
    <child link="wall_ext18"/>
  </joint>
  <link name="wall_ext19">
    <inertial>
      <origin xyz="0 0 0"/>
      <mass value="5.0"/>
      <inertia ixx="0.0" ixy="0.0" ixz="0.0" iyy="0.0" iyz="0.0" izz="0.0"/>
    </inertial>
    <visual>
      <origin xyz="0 0 0"/>
      <geometry>
        <box size="0.04 1.74 2"/>
      </geometry>
      <material name="Grey"/>
    </visual>
    <collision>
      <origin xyz="0 0 0"/>
      <geometry>
        <box size="0.04 1.74 2"/>
      </geometry>
    </collision>
  </link>
  <gazebo reference="wall_ext19">
    <material>IPA/WallApartment</material>
  </gazebo>
  <joint name="joint_wall_ext19" type="fixed">
    <origin rpy="0 0 0" xyz="0 -2.39 0"/>
    <parent link="origin_elevator"/>
    <child link="wall_ext19"/>
  </joint>
  <link name="wall_ext20">
    <inertial>
      <origin xyz="0 0 0"/>
      <mass value="5.0"/>
      <inertia ixx="0.0" ixy="0.0" ixz="0.0" iyy="0.0" iyz="0.0" izz="0.0"/>
    </inertial>
    <visual>
      <origin xyz="0 0 0"/>
      <geometry>
        <box size="0.04 1.3 2"/>
      </geometry>
      <material name="Grey"/>
    </visual>
    <collision>
      <origin xyz="0 0 0"/>
      <geometry>
        <box size="0.04 1.3 2"/>
      </geometry>
    </collision>
  </link>
  <gazebo reference="wall_ext20">
    <material>IPA/WallApartment</material>
  </gazebo>
  <joint name="joint_wall_ext20" type="fixed">
    <origin rpy="0 0 0" xyz="0 0 0"/>
    <parent link="origin_elevator"/>
    <child link="wall_ext20"/>
  </joint>
  <link name="cabinet1">
    <inertial>
      <origin xyz="0 0 0"/>
      <mass value="5.0"/>
      <inertia ixx="0.0" ixy="0.0" ixz="0.0" iyy="0.0" iyz="0.0" izz="0.0"/>
    </inertial>
    <visual>
      <origin xyz="0 0 0"/>
      <geometry>
        <box size="1.15 0.55 2.40"/>
      </geometry>
      <material name="LightBlue"/>
    </visual>
    <collision>
      <origin xyz="0 0 0"/>
      <geometry>
        <box size="1.15 0.55 2.40"/>
      </geometry>
    </collision>
  </link>
  <gazebo reference="cabinet1">
    <material>IPA/CabinetBlue</material>
  </gazebo>
  <joint name="joint_cabinet1" type="fixed">
    <origin rpy="0 0 0" xyz="4.844 -5.245 1.2"/>
    <parent link="dummy_link"/>
    <child link="cabinet1"/>
  </joint>
  <link name="cabinet2">
    <inertial>
      <origin xyz="0 0 0"/>
      <mass value="5.0"/>
      <inertia ixx="0.0" ixy="0.0" ixz="0.0" iyy="0.0" iyz="0.0" izz="0.0"/>
    </inertial>
    <visual>
      <origin xyz="0 0 0"/>
      <geometry>
        <box size="1.15 0.55 2.40"/>
      </geometry>
      <material name="LightBlue"/>
    </visual>
    <collision>
      <origin xyz="0 0 0"/>
      <geometry>
        <box size="1.15 0.55 2.40"/>
      </geometry>
    </collision>
  </link>
  <gazebo reference="cabinet2">
    <material>IPA/CabinetBlue</material>
  </gazebo>
  <joint name="joint_cabinet2" type="fixed">
    <origin rpy="0 0 0" xyz="1.104 -5.245 1.2"/>
    <parent link="dummy_link"/>
    <child link="cabinet2"/>
  </joint>
  <link name="cabinet3">
    <inertial>
      <origin xyz="0 0 0"/>
      <mass value="5.0"/>
      <inertia ixx="0.0" ixy="0.0" ixz="0.0" iyy="0.0" iyz="0.0" izz="0.0"/>
    </inertial>
    <visual>
      <origin xyz="0 0 0"/>
      <geometry>
        <box size="1.15 0.55 2.40"/>
      </geometry>
      <material name="LightBlue"/>
    </visual>
    <collision>
      <origin xyz="0 0 0"/>
      <geometry>
        <box size="1.15 0.55 2.40"/>
      </geometry>
    </collision>
  </link>
  <gazebo reference="cabinet3">
    <material>IPA/CabinetBlue</material>
  </gazebo>
  <joint name="joint_cabinet3" type="fixed">
    <origin rpy="0 0 0" xyz="-1.236 -5.245 1.2"/>
    <parent link="dummy_link"/>
    <child link="cabinet3"/>
  </joint>
  <link name="column">
    <inertial>
      <origin xyz="0 0 0"/>
      <mass value="5.0"/>
      <inertia ixx="0.0" ixy="0.0" ixz="0.0" iyy="0.0" iyz="0.0" izz="0.0"/>
    </inertial>
    <visual>
      <origin xyz="0 0 0"/>
      <geometry>
        <box size="0.36 0.36 2"/>
      </geometry>
      <material name="LightBlue"/>
    </visual>
    <collision>
      <origin xyz="0 0 0"/>
      <geometry>
        <box size="0.36 0.36 2"/>
      </geometry>
    </collision>
  </link>
  <gazebo reference="column">
    <material>IPA/WallApartment</material>
  </gazebo>
  <joint name="joint_column" type="fixed">
    <origin rpy="0 0 0" xyz="2.009 -5.15 1.0"/>
    <parent link="dummy_link"/>
    <child link="column"/>
  </joint>
  <link name="kitchen_left">
    <inertial>
      <origin xyz="0 0 0"/>
      <mass value="5.0"/>
      <inertia ixx="0.0" ixy="0.0" ixz="0.0" iyy="0.0" iyz="0.0" izz="0.0"/>
    </inertial>
    <visual>
      <origin xyz="0 0 0"/>
      <geometry>
        <mesh filename="package://cob_gazebo_worlds/Media/materials/textures/kitchen_right.dae"/>
      </geometry>
    </visual>
    <collision>
      <origin xyz="0 0 0"/>
      <geometry>
        <box size="0.66 0.62 1.44"/>
      </geometry>
    </collision>
  </link>
  <gazebo reference="kitchen_left">
	</gazebo>
  <joint name="joint_kitchen_left" type="fixed">
    <origin rpy="0 0 0" xyz="-1.691 -1.725 0.720"/>
    <parent link="dummy_link"/>
    <child link="kitchen_left"/>
  </joint>
  <link name="kitchen_middle">
    <inertial>
      <origin xyz="0 0 0"/>
      <mass value="5.0"/>
      <inertia ixx="0.0" ixy="0.0" ixz="0.0" iyy="0.0" iyz="0.0" izz="0.0"/>
    </inertial>
    <visual>
      <origin xyz="0 0 0"/>
      <geometry>
        <mesh filename="package://cob_gazebo_worlds/Media/materials/textures/kitchen_middle.dae"/>
      </geometry>
    </visual>
    <collision>
      <origin xyz="0 0 0"/>
      <geometry>
        <box size="0.66 1.80 0.90"/>
      </geometry>
    </collision>
  </link>
  <gazebo reference="kitchen_middle">
	</gazebo>
  <joint name="joint_kitchen_middle" type="fixed">
    <origin rpy="0 0 0" xyz="-1.691 -0.515 0.450"/>
    <parent link="dummy_link"/>
    <child link="kitchen_middle"/>
  </joint>
  <link name="kitchen_right">
    <inertial>
      <origin xyz="0 0 0"/>
      <mass value="5.0"/>
      <inertia ixx="0.0" ixy="0.0" ixz="0.0" iyy="0.0" iyz="0.0" izz="0.0"/>
    </inertial>
    <visual>
      <origin xyz="0 0 0"/>
      <geometry>
        <mesh filename="package://cob_gazebo_worlds/Media/materials/textures/kitchen_left.dae"/>
      </geometry>
    </visual>
    <collision>
      <origin xyz="0 0 0"/>
      <geometry>
        <box size="0.66 0.62 1.44"/>
      </geometry>
    </collision>
  </link>
  <gazebo reference="kitchen_right">
	</gazebo>
  <joint name="joint_kitchen_right" type="fixed">
    <origin rpy="0 0 0" xyz="-1.691 0.695 0.720"/>
    <parent link="dummy_link"/>
    <child link="kitchen_right"/>
  </joint>
  <link name="wall_ipa">
    <inertial>
      <origin xyz="0 0 0"/>
      <mass value="5.0"/>
      <inertia ixx="0.0" ixy="0.0" ixz="0.0" iyy="0.0" iyz="0.0" izz="0.0"/>
    </inertial>
    <visual>
      <origin xyz="0 0 0"/>
      <geometry>
        <box size="0.77 0.10 2.40"/>
      </geometry>
      <material name="Grey"/>
    </visual>
    <collision>
      <origin xyz="0 0 0"/>
      <geometry>
        <box size="0.77 0.10 2.40"/>
      </geometry>
    </collision>
  </link>
  <gazebo reference="wall_ipa">
    <material>IPA/Wall3</material>
  </gazebo>
  <joint name="joint_wall_ipa" type="fixed">
    <origin rpy="0 0 0" xyz="2.574 -5.345 1.21"/>
    <parent link="dummy_link"/>
    <child link="wall_ipa"/>
  </joint>
<gazebo>
	<static>true</static>
</gazebo>
</robot>
